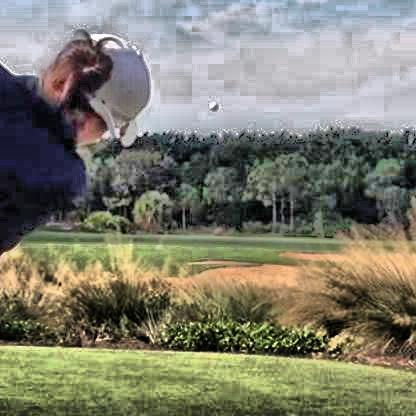golfball: (206, 99, 218, 111)
